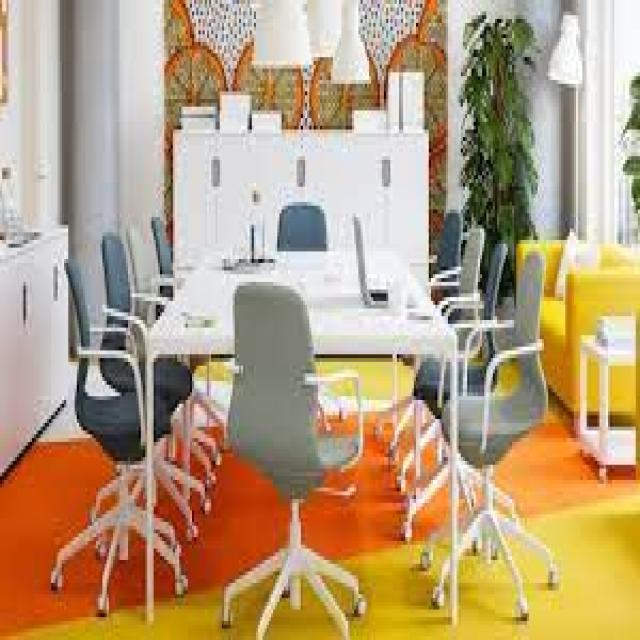chair: (384, 240, 580, 636), (198, 259, 374, 640), (41, 240, 194, 640), (78, 212, 204, 550), (110, 200, 232, 482), (390, 236, 514, 498), (133, 200, 234, 440), (249, 187, 353, 370), (409, 220, 490, 378), (399, 206, 472, 332)
